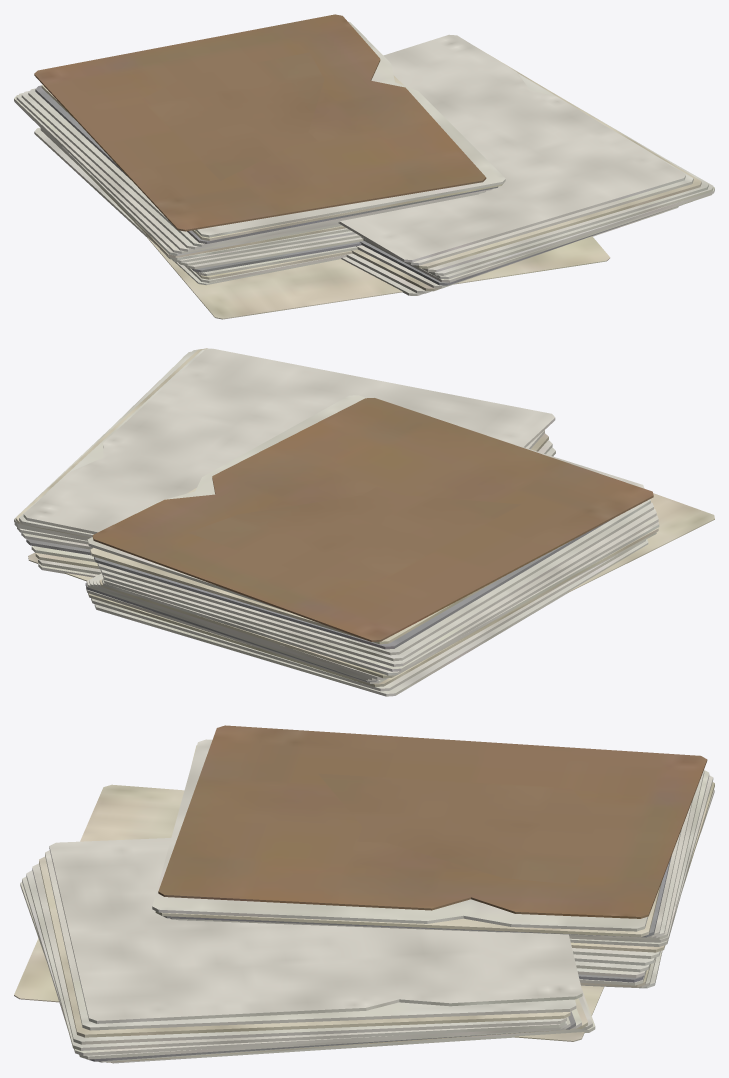
File: O11_paper_stacks_v2.glb
3 renders of one model, top to bottom at view 1: azimuth 30°, elevation 25°; view 2: azimuth 150°, elevation 25°; view 3: azimuth 270°, elevation 25°, orthographic. The views are drawn at different scales.
Visible parts, largest first — view 1: Worn paper leaf; view 2: Worn paper leaf; view 3: Worn paper leaf.
Part boxes in pixels (left/top/right/bottom): Worn paper leaf: left=14, top=14, right=714, bottom=319; Worn paper leaf: left=14, top=348, right=714, bottom=696; Worn paper leaf: left=14, top=725, right=714, bottom=1063.
Size of the model in its own units: 0.3939 by 0.0467 by 0.4.
Materials: 4 (4 with a texture image).
